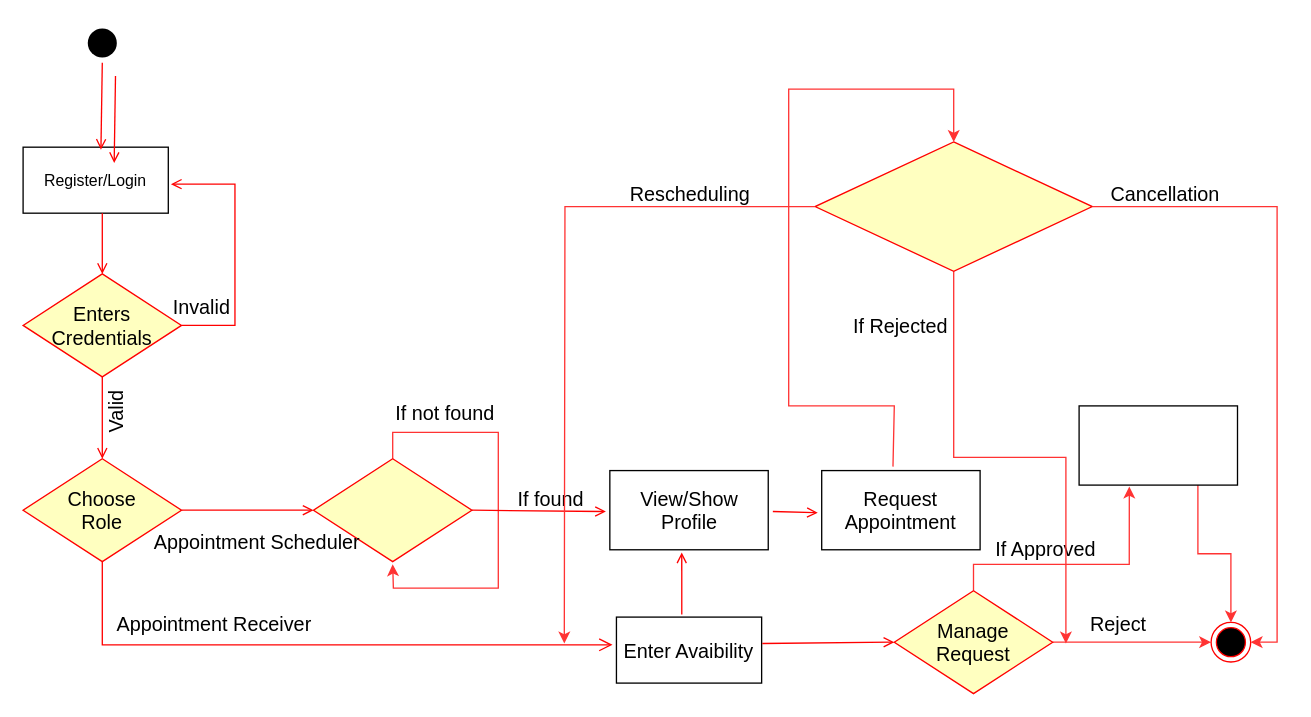
This 1311x717 diagram has some shape labels left out. The shapes that lost their labels are listed below. From the top down, each one's box as (x1, y1, x2, y2) in pixels, then its label:
(814, 141, 1092, 271): Booking/Cancellation /Rescheduling Request
(1078, 405, 1238, 485): Appointment
(312, 457, 472, 562): Search Profile
